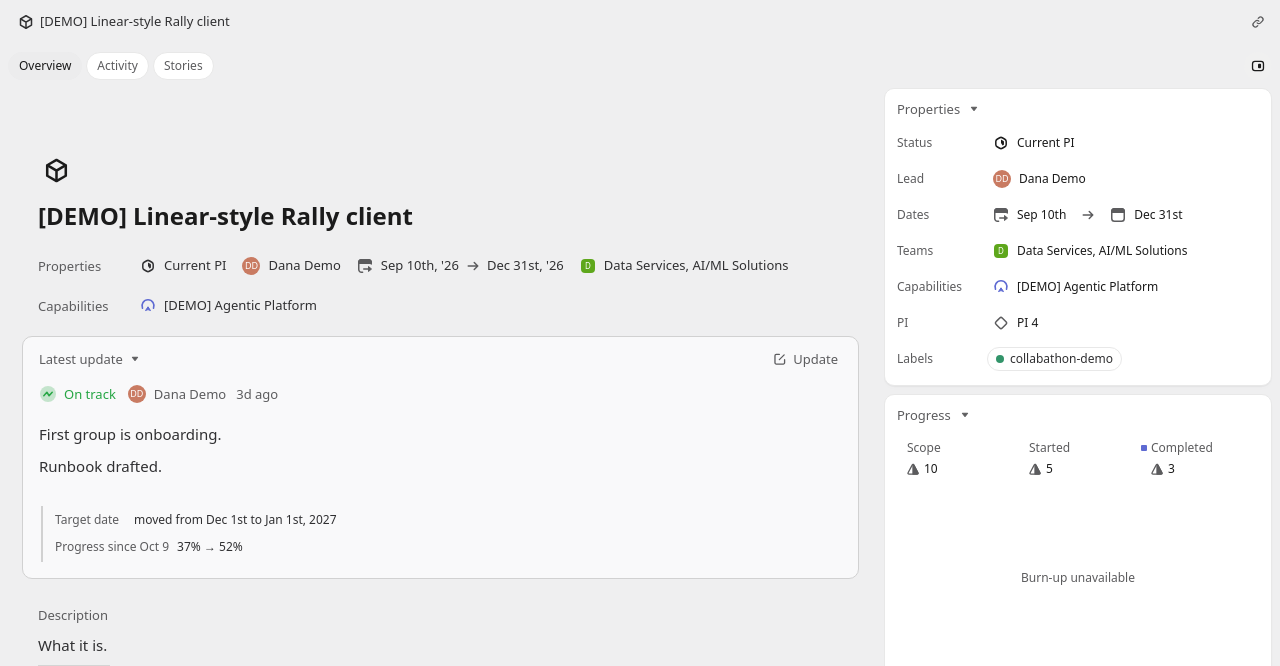
Test: the latest update collapses from its header
Click the button "Latest update" at (90, 359), box [31, 345, 149, 373]
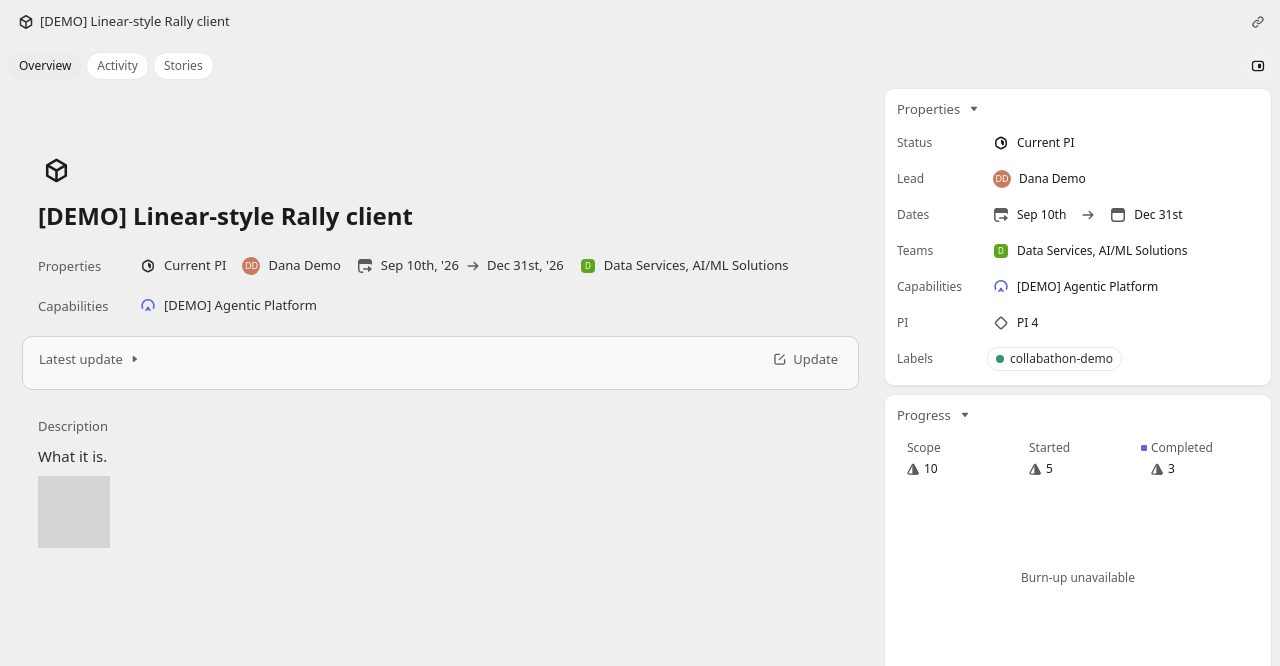
Expected: the element showing "Latest update Update" no longer shows "First group is onboarding.", [38, 336, 843, 390]
